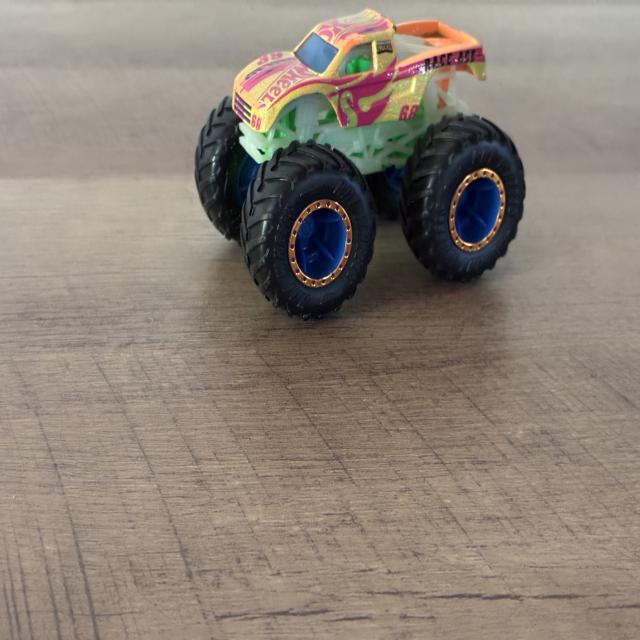cars: (195, 9, 525, 320)
